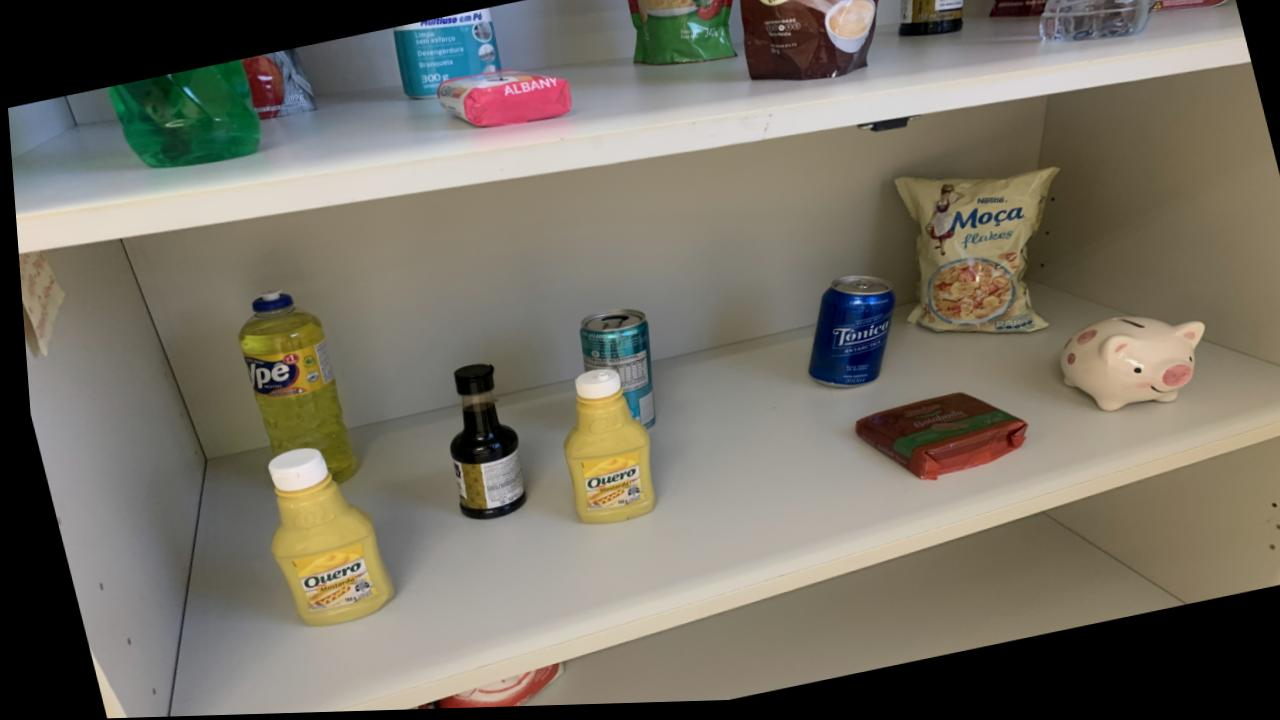Cleaner-Cleanup_Items: (393, 10, 500, 101)
Coffee-Pantry_Items: (738, 0, 878, 85)
Detergent-Cleanup_Items: (233, 294, 349, 483), (105, 61, 259, 168)
English_Sauce-Pantry_Items: (442, 367, 519, 521), (897, 0, 964, 42)
Flakes-Snacks: (891, 174, 1055, 339)
Guava-Snacks: (847, 397, 1020, 486)
Mustard-Pantry_Items: (260, 449, 385, 627), (556, 372, 648, 527)
Pig_Safe-Miscellaneous: (1054, 323, 1199, 418)
Soap-Cleanup_Items: (434, 73, 569, 130)
Tea-Drinks: (574, 312, 649, 430)
Tomato_Sauce-Pantry_Items: (632, 0, 734, 69), (239, 50, 315, 121), (988, 0, 1047, 23)
Tonic-Drinks: (801, 280, 890, 392)
Tuna_Can-Pantry_Items: (1150, 0, 1233, 18)
Water_Bottle-Drinks: (1038, 0, 1154, 48)
